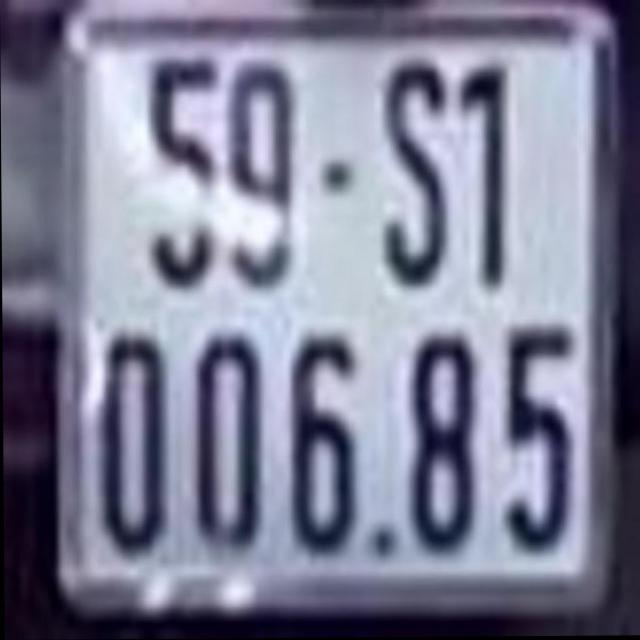0: (196, 331, 267, 548), (98, 332, 163, 549)
1: (460, 60, 505, 289)
5: (505, 321, 574, 552), (149, 59, 216, 282)
6: (292, 333, 357, 553)
8: (403, 330, 478, 544)
9: (229, 58, 297, 278)
S: (382, 56, 444, 281)
